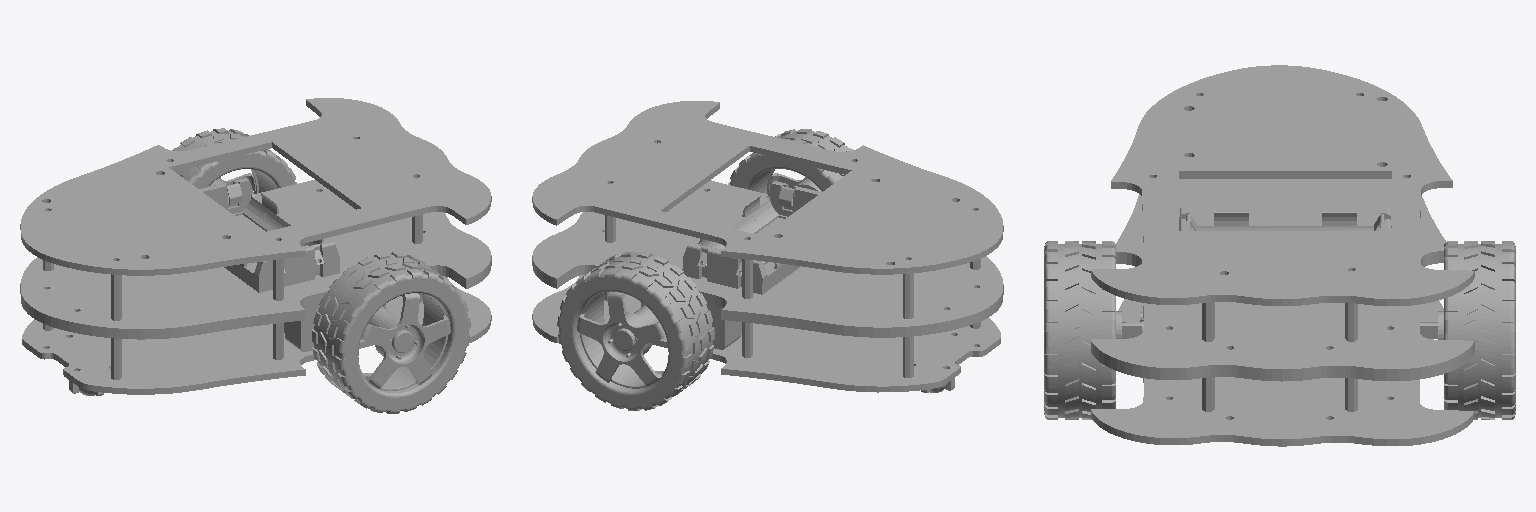
The robot description file, URDF, robot "alphabot_base":
<?xml version="1.0" ?>
<!-- =================================================================================== -->
<!-- |    This document was autogenerated by xacro from alphabot_base.xacro            | -->
<!-- |    EDITING THIS FILE BY HAND IS NOT RECOMMENDED                                 | -->
<!-- =================================================================================== -->
<robot name="alphabot_base">
  <material name="silver">
    <color rgba="0.700 0.700 0.700 1.000"/>
  </material>
  <transmission name="left_joint_tran">
    <type>transmission_interface/SimpleTransmission</type>
    <joint name="left_joint">
      <hardwareInterface>hardware_interface/EffortJointInterface</hardwareInterface>
    </joint>
    <actuator name="left_joint_actr">
      <hardwareInterface>hardware_interface/EffortJointInterface</hardwareInterface>
      <mechanicalReduction>1</mechanicalReduction>
    </actuator>
  </transmission>
  <transmission name="right_joint_tran">
    <type>transmission_interface/SimpleTransmission</type>
    <joint name="right_joint">
      <hardwareInterface>hardware_interface/EffortJointInterface</hardwareInterface>
    </joint>
    <actuator name="right_joint_actr">
      <hardwareInterface>hardware_interface/EffortJointInterface</hardwareInterface>
      <mechanicalReduction>1</mechanicalReduction>
    </actuator>
  </transmission>
  <gazebo>
    <plugin filename="libgazebo_ros_control.so" name="control"/>
  </gazebo>
  <gazebo reference="base_link">
    <material>Gazebo/Silver</material>
    <mu1>0.2</mu1>
    <mu2>0.2</mu2>
    <selfCollide>true</selfCollide>
    <gravity>true</gravity>
  </gazebo>
  <gazebo reference="tyre_left_2">
    <material>Gazebo/Silver</material>
    <mu1>0.2</mu1>
    <mu2>0.2</mu2>
    <selfCollide>true</selfCollide>
  </gazebo>
  <gazebo reference="tyre_right_2">
    <material>Gazebo/Silver</material>
    <mu1>0.2</mu1>
    <mu2>0.2</mu2>
    <selfCollide>true</selfCollide>
  </gazebo>
  <!-- <xacro:include filename="[local-path]/ros_workspaces/ar_ws/src/Innohacks/alphabot_base_description/gazebo/alphabot_base_plugins.gazebo" /> -->
  <link name="base_link">
    <inertial>
      <origin rpy="0 0 0" xyz="0.10955796271120455 0.00244443549563504 0.04154096131754149"/>
      <mass value="2.0054173190533096"/>
      <inertia ixx="0.002691" ixy="-2.9e-05" ixz="9.6e-05" iyy="0.005622" iyz="1e-06" izz="0.006954"/>
    </inertial>
    <visual>
      <origin rpy="0 0 0" xyz="0 0 0"/>
      <geometry>
        <mesh filename="package://alphabot_base_description/meshes/base_link.stl" scale="0.001 0.001 0.001"/>
      </geometry>
      <material name="silver"/>
    </visual>
    <collision>
      <origin rpy="0 0 0" xyz="0 0 0"/>
      <geometry>
        <mesh filename="package://alphabot_base_description/meshes/base_link.stl" scale="0.001 0.001 0.001"/>
      </geometry>
    </collision>
  </link>
  <link name="tyre_left_2">
    <inertial>
      <origin rpy="0 0 0" xyz="-1.0291917068583345e-08 -0.015890267820055454 5.6733905702544e-07"/>
      <mass value="0.233413023744858"/>
      <inertia ixx="9.6e-05" ixy="-0.0" ixz="0.0" iyy="0.00016" iyz="0.0" izz="9.6e-05"/>
    </inertial>
    <visual>
      <origin rpy="0 0 0" xyz="-0.13535 0.055077 -0.031954"/>
      <geometry>
        <mesh filename="package://alphabot_base_description/meshes/tyre_left_2.stl" scale="0.001 0.001 0.001"/>
      </geometry>
      <material name="silver"/>
    </visual>
    <collision>
      <origin rpy="0 0 0" xyz="-0.13535 0.055077 -0.031954"/>
      <geometry>
        <mesh filename="package://alphabot_base_description/meshes/tyre_left_2.stl" scale="0.001 0.001 0.001"/>
      </geometry>
    </collision>
  </link>
  <link name="tyre_right_2">
    <inertial>
      <origin rpy="0 0 0" xyz="-6.416216058457991e-09 0.015890269546393103 5.80426184441929e-07"/>
      <mass value="0.23341258097957676"/>
      <inertia ixx="9.6e-05" ixy="0.0" ixz="0.0" iyy="0.00016" iyz="-0.0" izz="9.6e-05"/>
    </inertial>
    <visual>
      <origin rpy="0 0 0" xyz="-0.13535 -0.059077 -0.031954"/>
      <geometry>
        <mesh filename="package://alphabot_base_description/meshes/tyre_right_2.stl" scale="0.001 0.001 0.001"/>
      </geometry>
      <material name="silver"/>
    </visual>
    <collision>
      <origin rpy="0 0 0" xyz="-0.13535 -0.059077 -0.031954"/>
      <geometry>
        <mesh filename="package://alphabot_base_description/meshes/tyre_right_2.stl" scale="0.001 0.001 0.001"/>
      </geometry>
    </collision>
  </link>
  <joint name="left_joint" type="continuous">
    <origin rpy="0 0 0" xyz="0.13535 -0.055077 0.031954"/>
    <parent link="base_link"/>
    <child link="tyre_left_2"/>
    <axis xyz="0.0 1.0 -0.0"/>
  </joint>
  <joint name="right_joint" type="continuous">
    <origin rpy="0 0 0" xyz="0.13535 0.059077 0.031954"/>
    <parent link="base_link"/>
    <child link="tyre_right_2"/>
    <axis xyz="0.0 -1.0 -0.0"/>
  </joint>
</robot>

--- Facts derived from the render (not from the file) ---
The picture shows the robot from 3 angles, left to right: view 1: azimuth 30°, elevation 25°; view 2: azimuth 150°, elevation 25°; view 3: azimuth 270°, elevation 25°; orthographic projection.
Model alphabot_base with 3 links and 2 joints (2 continuous), rooted at base_link, posed all joints at 0.
Visible links, largest first — view 1: base_link, tyre_left_2, tyre_right_2; view 2: base_link, tyre_right_2, tyre_left_2; view 3: base_link, tyre_left_2, tyre_right_2.
Boxes of the visible links, x1,y1,x2,y2 form: base_link: (20,98,491,395); tyre_left_2: (312,252,470,413); tyre_right_2: (172,128,297,199); base_link: (532,101,1003,392); tyre_right_2: (557,251,714,410); tyre_left_2: (728,129,852,199); base_link: (1091,65,1474,446); tyre_left_2: (1044,241,1121,419); tyre_right_2: (1438,241,1515,419).
Bounding box of the posed robot: 0.2004 × 0.1706 × 0.0759 m (x, y, z).
3 mesh visuals loaded from 3 distinct referenced files (3 binary STL).